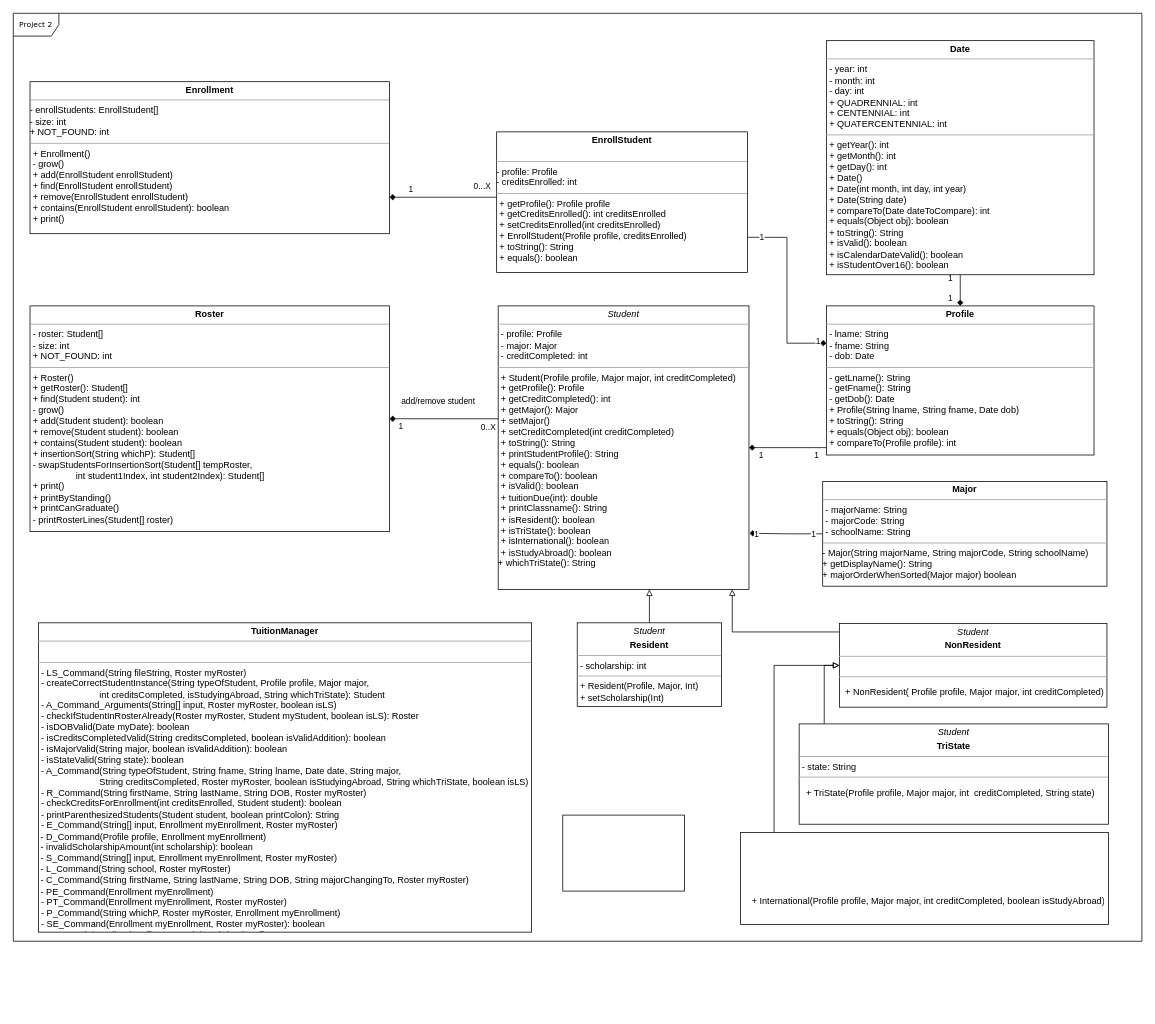
The diagram is 1155 pixels wide and 1024 high, and some of its shapes have lost their labels. The shapes that lost their labels are listed below. From the top down, each one's centre as x and y in pixels, then its label:
the point at 623,852: RunProject2 + main(Type): String[] args
the point at 924,878: Student International - isStudyAbroad: boolean
